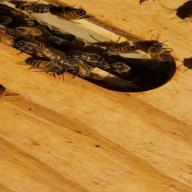Bee: (99, 36, 191, 66), (47, 5, 111, 29), (24, 57, 68, 86)
